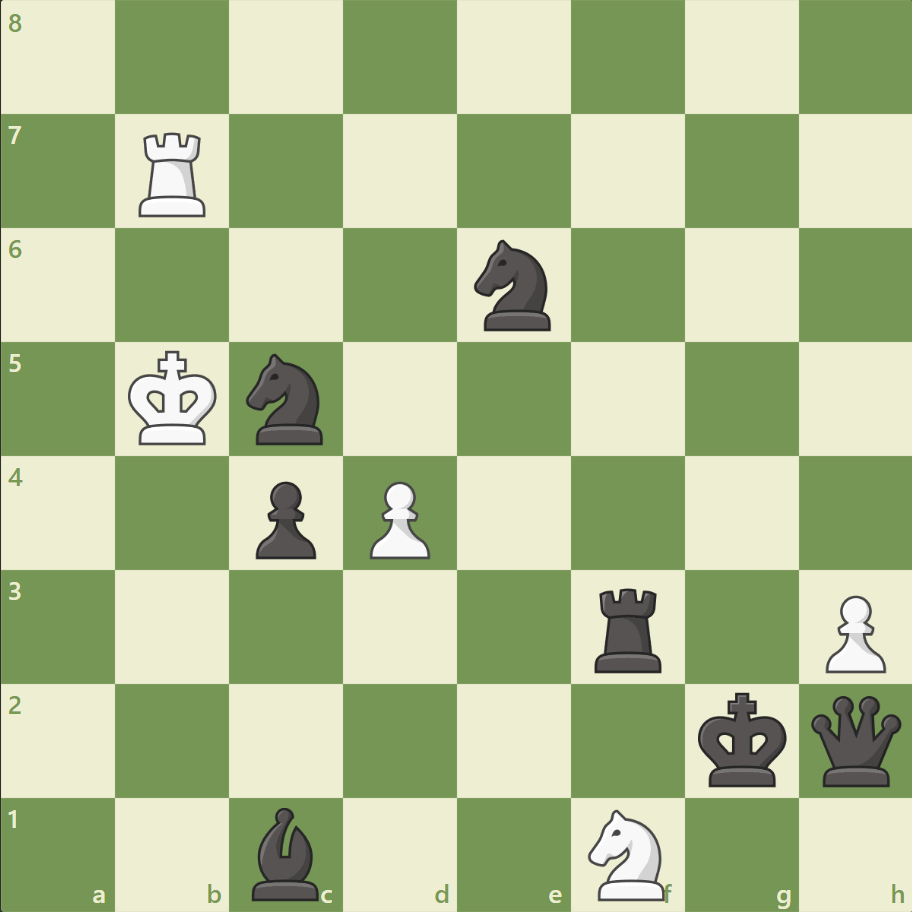K: (124, 344, 224, 452)
N: (579, 802, 676, 904)
P: (361, 473, 435, 564), (815, 586, 889, 677)
R: (133, 125, 215, 222)
b: (244, 801, 328, 904)
k: (692, 685, 792, 793)
n: (465, 234, 562, 337), (238, 348, 335, 450)
p: (247, 473, 322, 564)
q: (805, 690, 904, 789)
r: (587, 579, 670, 676)
